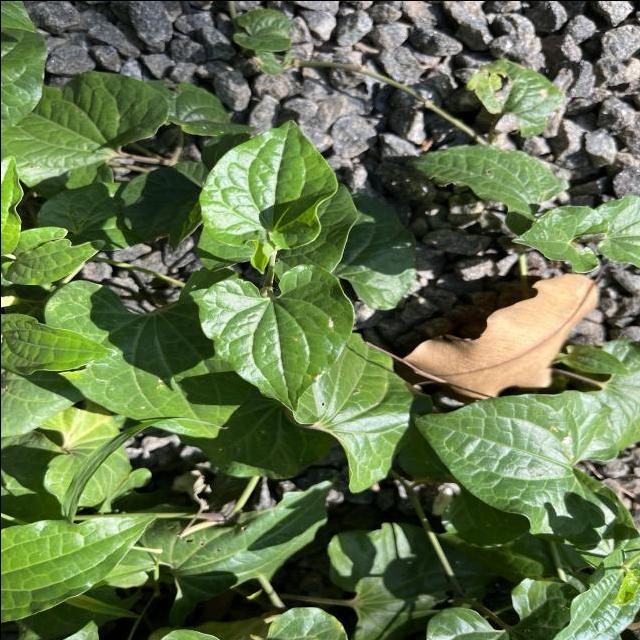Piper longum: (407, 385, 621, 548), (197, 262, 356, 412), (194, 117, 340, 250)
